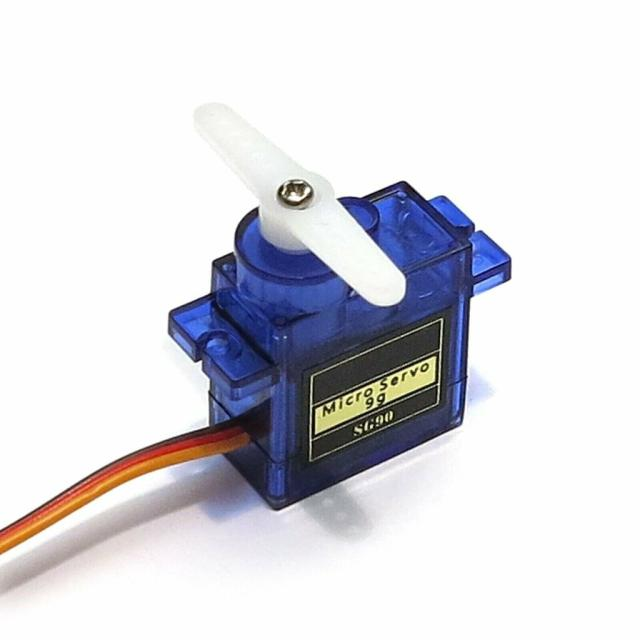motor: (0, 102, 511, 588)
